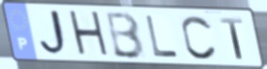B: (105, 10, 147, 61)
C: (180, 13, 219, 62)
H: (66, 9, 113, 60)
J: (38, 8, 72, 58)
L: (144, 13, 181, 59)
T: (218, 16, 245, 61)
